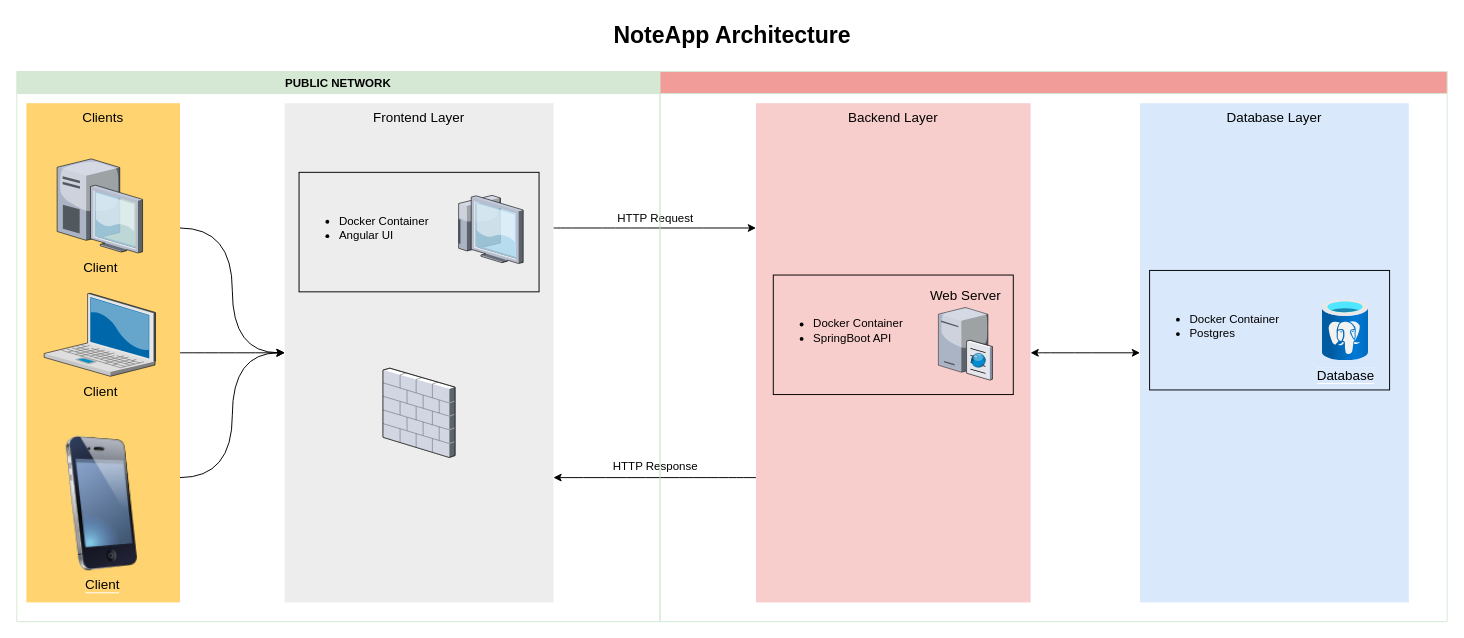
Some shapes in this 1464 by 638 pixel diagram are drawn without their labels. Here are the shapes that lost their labels. From the top down, the centre of each, then its label:
At [489,229]: "UI".
At [1053,346]: "PRIVATE NETWORK".
At [419,412]: "Firewall".
